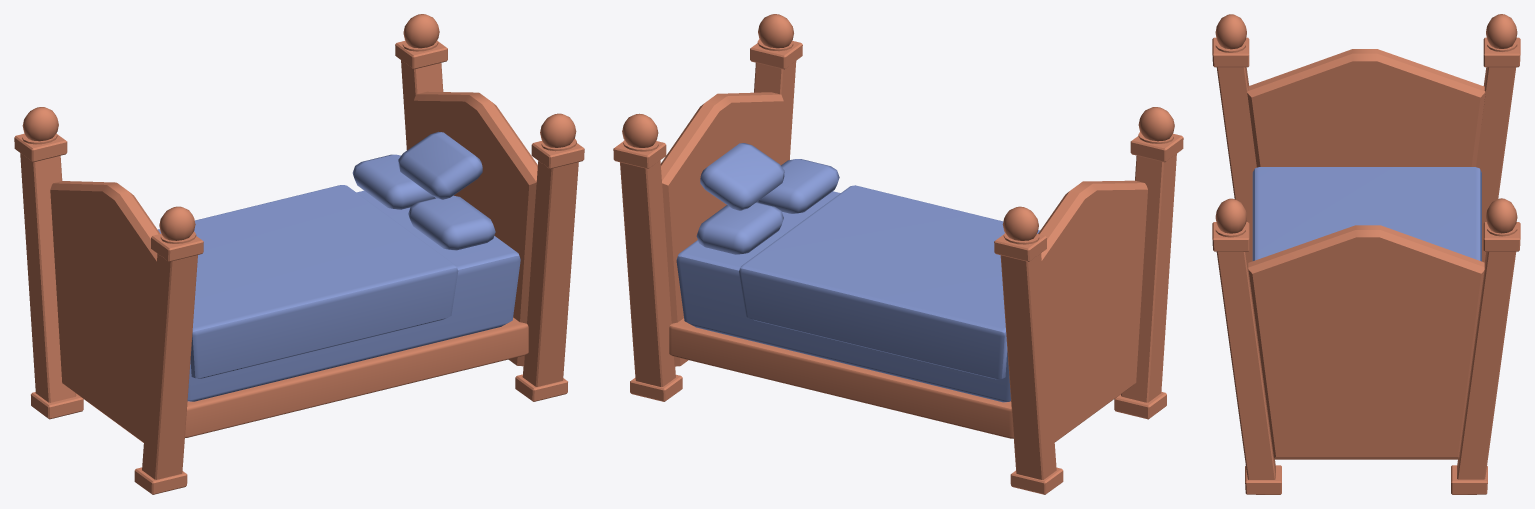
File: Bed_sketch_fbx.fbx
3 renders of one model, left to right at view 1: azimuth 30°, elevation 25°; view 2: azimuth 150°, elevation 25°; view 3: azimuth 270°, elevation 25°, orthographic.
Visible parts, largest first — view 1: pCube13; view 2: pCube13; view 3: pCube13.
Part boxes in pixels (<box>): pCube13: <box>14,14,584,494</box>; pCube13: <box>613,14,1183,494</box>; pCube13: <box>1212,14,1520,494</box>.
Bounding box in the file's own units: 238 × 158 × 154.
